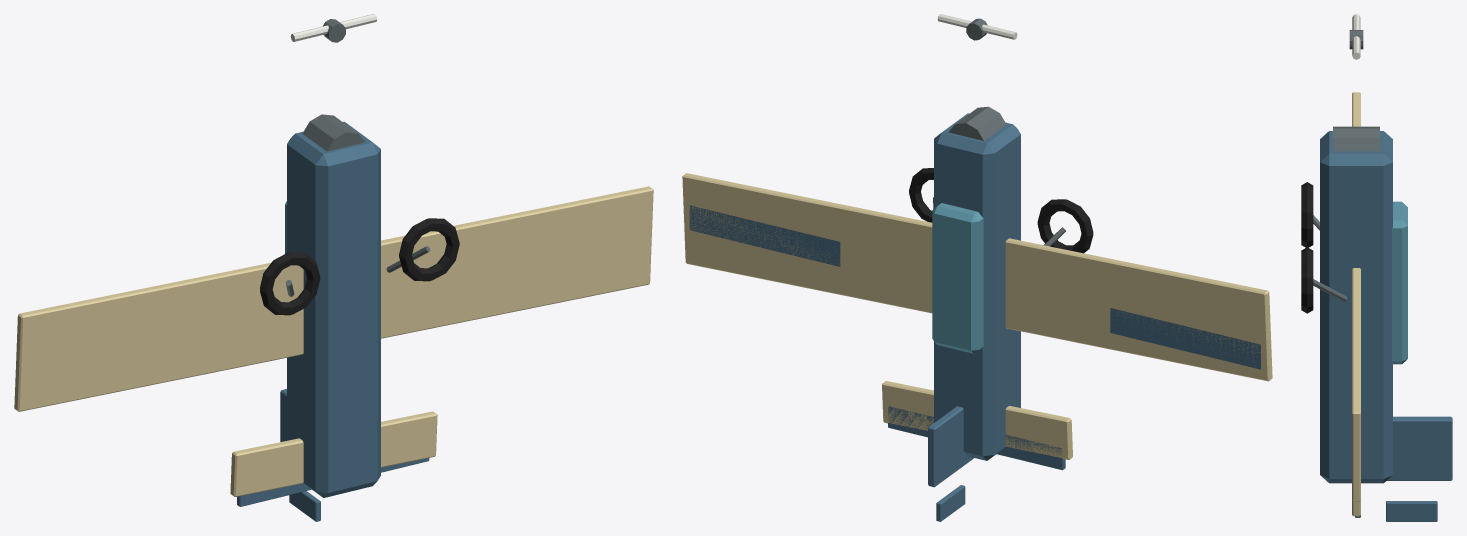
The picture shows the model from 3 angles, left to right: view 1: azimuth 30°, elevation 25°; view 2: azimuth 150°, elevation 25°; view 3: azimuth 270°, elevation 25°; orthographic projection. The views are drawn at different scales.
Visible parts, largest first — view 1: main_wing.010, fuselage.005, horizontal_tail.010, wheel_1.010, wheel_0.010, engine_mount_0.010, elevator.010; view 2: main_wing.010, fuselage.005, canopy.005, horizontal_tail.010, aileron_R.010, aileron_L.010, vertical_tail.010, elevator.010, wheel_0.010, engine_mount_0.010, wheel_1.010, rudder.010; view 3: fuselage.005, vertical_tail.010, canopy.005, main_wing.010, engine_mount_0.010, rudder.010, wheel_0.010, wheel_1.010, prop_blade.033, landing_strut_1.010, prop_hub.011.
Boxes of the visible parts, x1,y1,x2,y2 form: main_wing.010: (14,186,653,411); fuselage.005: (287,121,380,497); horizontal_tail.010: (230,411,437,496); wheel_1.010: (399,218,459,281); wheel_0.010: (260,252,320,315); engine_mount_0.010: (302,114,365,151); elevator.010: (237,458,429,506); main_wing.010: (682,173,1272,381); fuselage.005: (934,113,1020,460); canopy.005: (932,203,983,353); horizontal_tail.010: (882,381,1072,459); aileron_R.010: (689,205,840,266); aileron_L.010: (1110,308,1260,369); vertical_tail.010: (928,406,973,487); elevator.010: (888,406,1065,470); wheel_0.010: (1037,199,1093,253); engine_mount_0.010: (948,106,1006,140); wheel_1.010: (909,168,933,222); rudder.010: (936,485,965,521); fuselage.005: (1320,131,1392,483); vertical_tail.010: (1387,416,1452,480); canopy.005: (1392,201,1407,364); main_wing.010: (1352,92,1360,501); engine_mount_0.010: (1333,126,1379,151); rudder.010: (1386,501,1437,521); wheel_0.010: (1301,182,1313,247); wheel_1.010: (1301,247,1313,313); prop_blade.033: (1352,14,1360,59); landing_strut_1.010: (1313,279,1347,301); prop_hub.011: (1349,30,1363,49).
Size of the model in its own units: 9.29 by 7.14 by 2.
